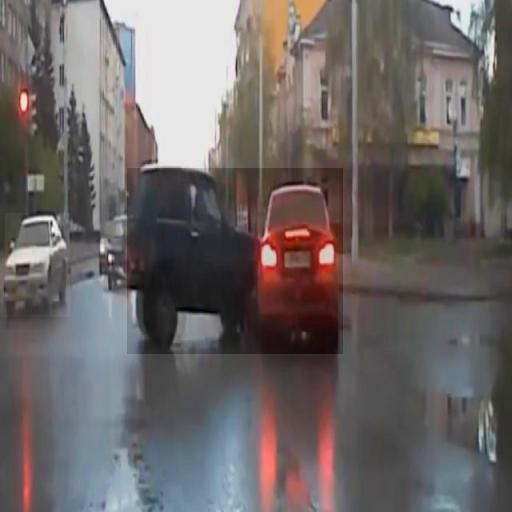小汽车: (5, 213, 70, 317)
小汽车撞小汽车: (127, 168, 343, 354)
